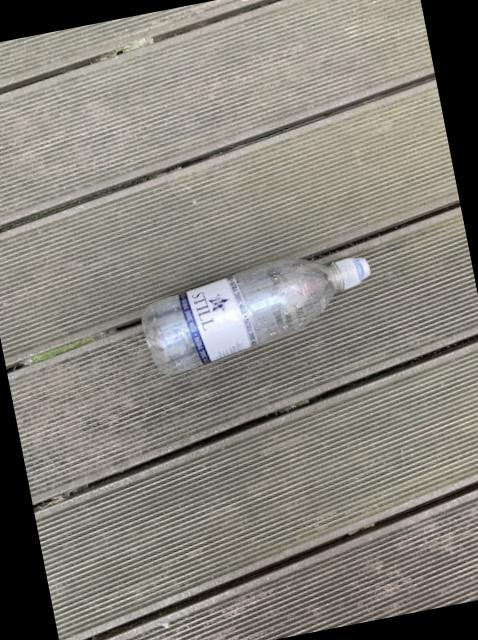plastic: (139, 256, 367, 372)
